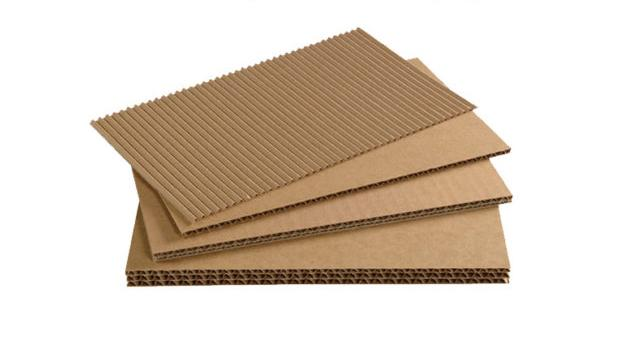plastic: (130, 111, 512, 261), (183, 104, 511, 230), (126, 203, 509, 285), (408, 54, 445, 92)
